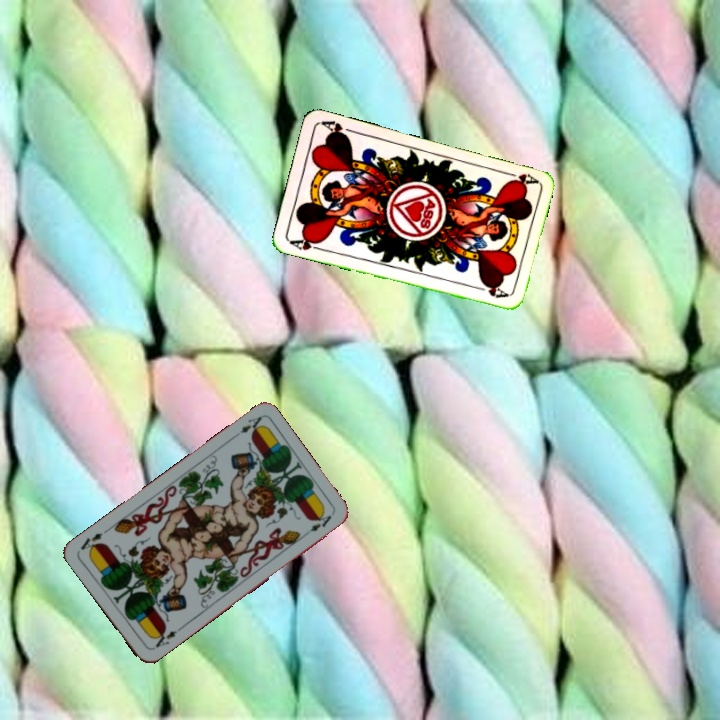EA: (228, 413, 265, 442), (149, 623, 184, 651)
HA: (499, 167, 540, 187), (286, 233, 326, 253)
